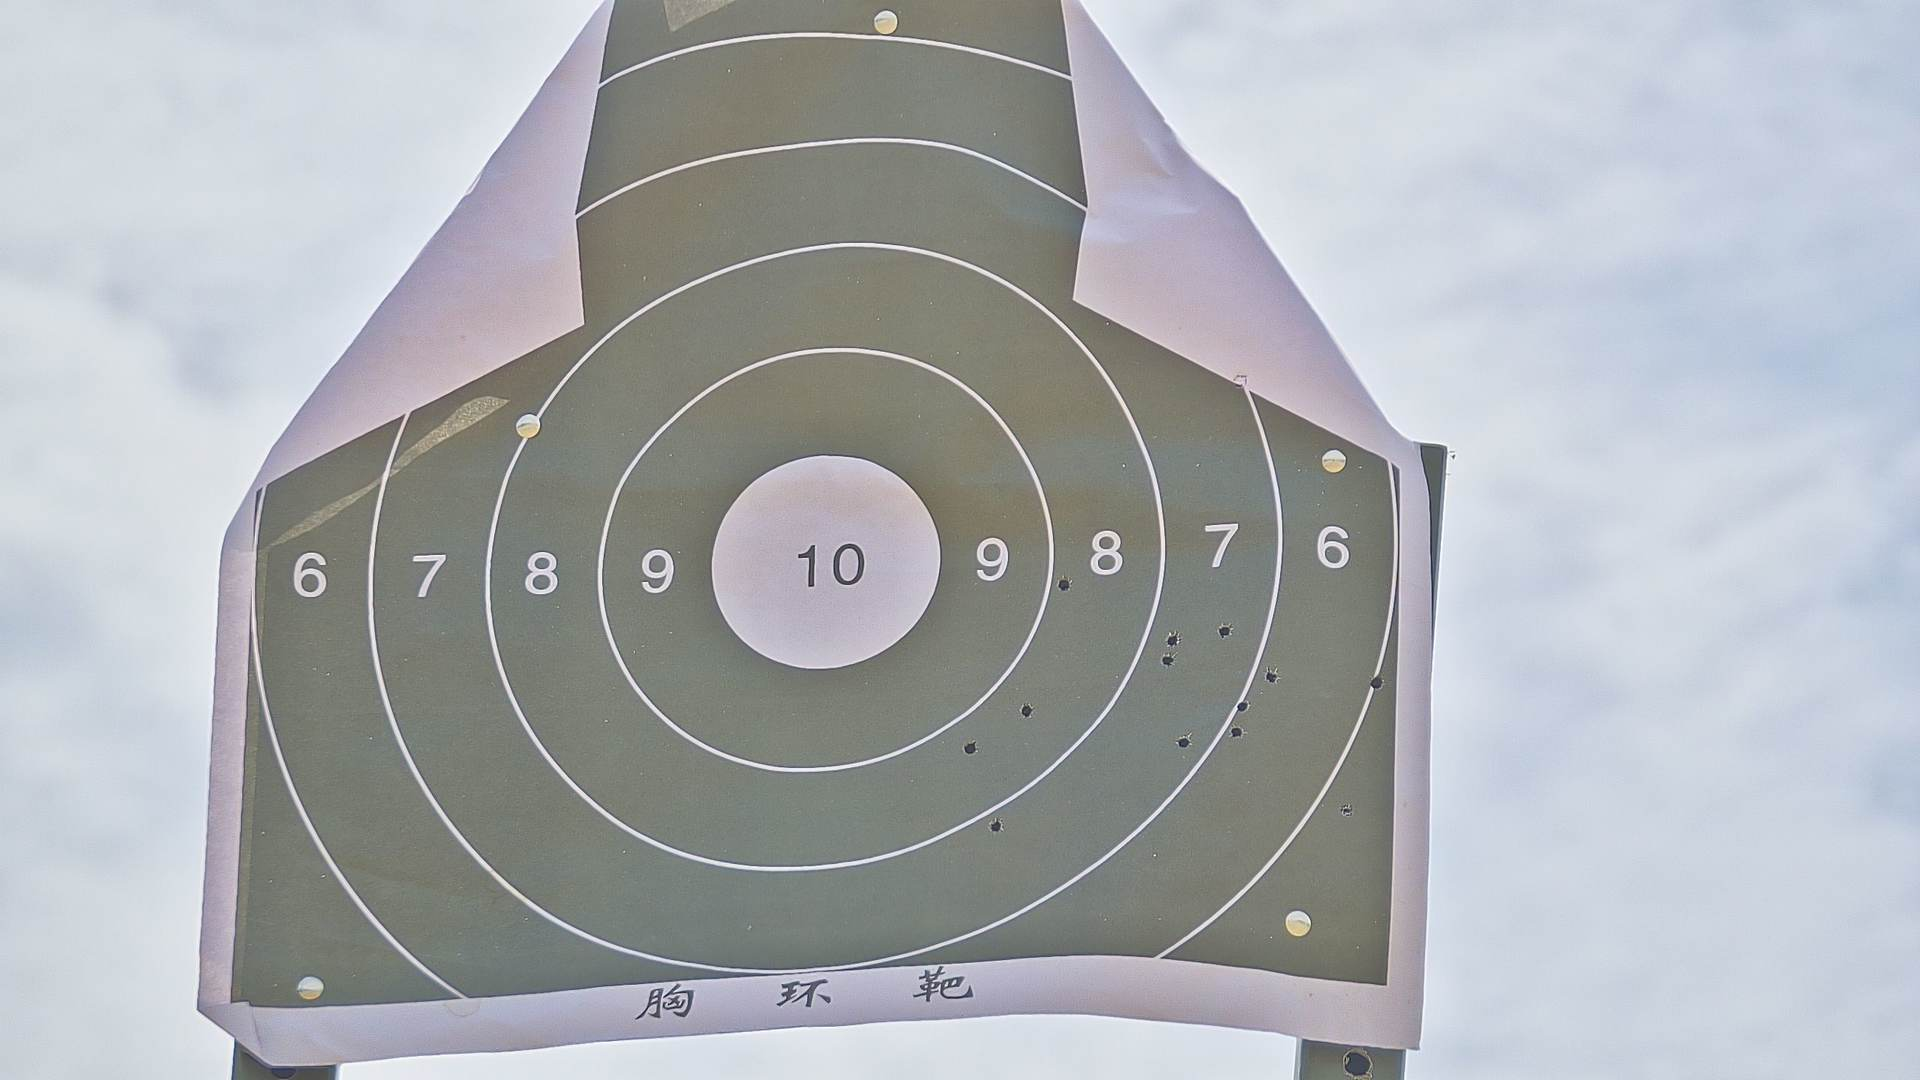hole: (963, 741, 978, 757), (1019, 703, 1035, 717), (1218, 624, 1233, 640), (989, 819, 1004, 833), (1178, 735, 1192, 749), (1162, 653, 1175, 669), (1056, 579, 1073, 591), (1232, 724, 1245, 738), (1371, 676, 1385, 690), (1167, 633, 1180, 645), (1238, 699, 1251, 711), (1266, 671, 1276, 684), (1341, 804, 1352, 814)
kernel: (819, 563, 828, 567)
target: (229, 11, 1396, 994)
ten: (708, 455, 945, 673)
